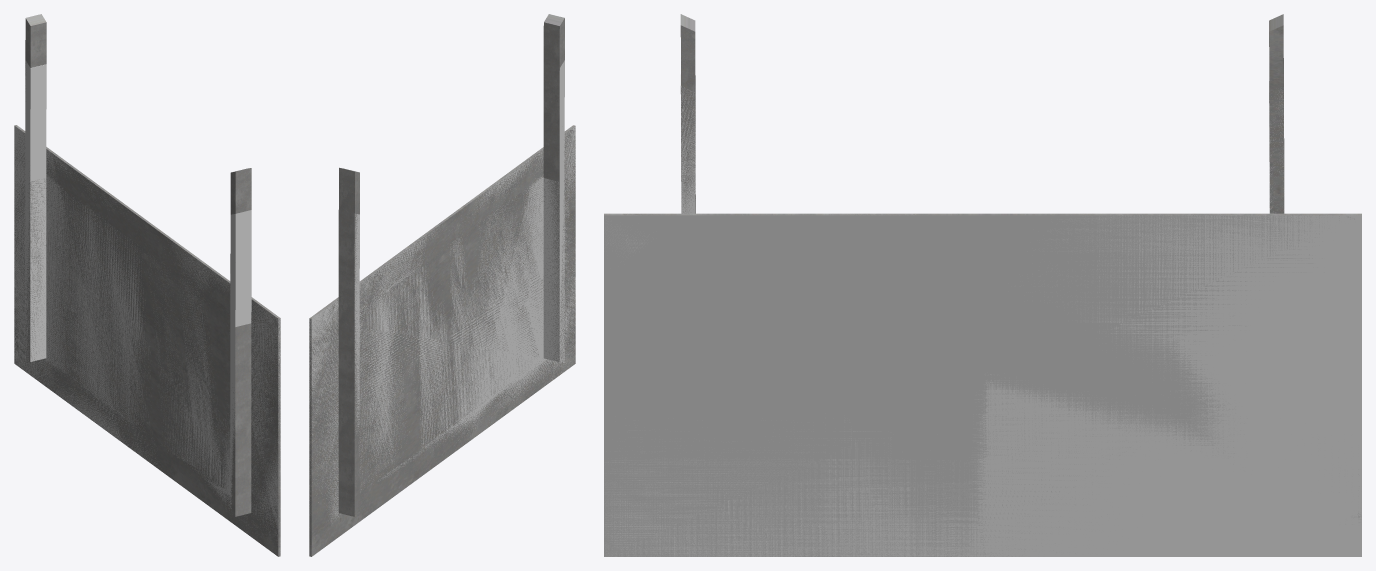
File: rlssign2.dae
3 renders of one model, left to right at view 1: azimuth 30°, elevation 25°; view 2: azimuth 150°, elevation 25°; view 3: azimuth 270°, elevation 25°, orthographic. The views are drawn at different scales.
Parts seen in each view (by area): view 1: rlssign2_a500, Colmesh-1, rlssign2_a250, rlssign2_a50; view 2: rlssign2_a500, Colmesh-1, rlssign2_a50, rlssign2_a250; view 3: rlssign2_a500, Colmesh-1, rlssign2_a250, rlssign2_a50.
Part boxes in pixels (<box>): rlssign2_a500: <box>14,14,280,552</box>; Colmesh-1: <box>14,61,280,555</box>; rlssign2_a250: <box>14,15,280,556</box>; rlssign2_a50: <box>14,125,280,555</box>; rlssign2_a500: <box>309,14,575,552</box>; Colmesh-1: <box>309,60,575,521</box>; rlssign2_a50: <box>309,126,575,556</box>; rlssign2_a250: <box>309,15,575,556</box>; rlssign2_a500: <box>604,14,1361,556</box>; Colmesh-1: <box>604,74,1361,556</box>; rlssign2_a250: <box>604,15,1361,556</box>; rlssign2_a50: <box>604,213,1361,556</box>.
Bounding box in the file's own units: 0.1183 × 2.96 × 2.28.
